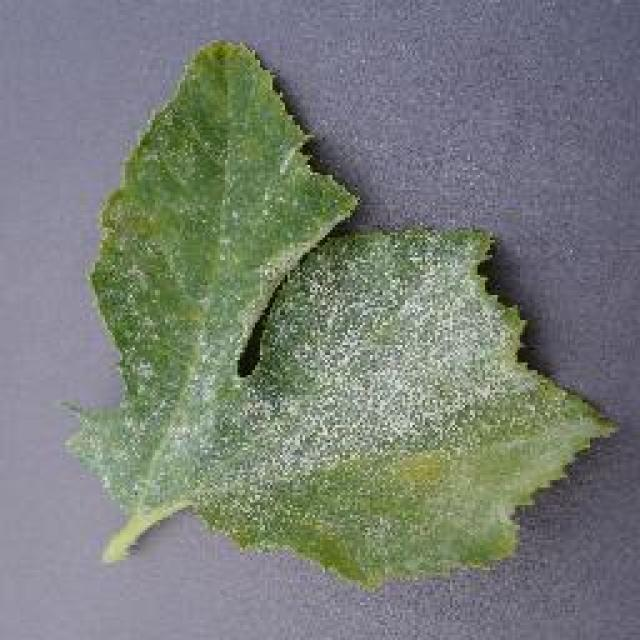Squ_Powdery_mildew: (134, 218, 528, 540)
